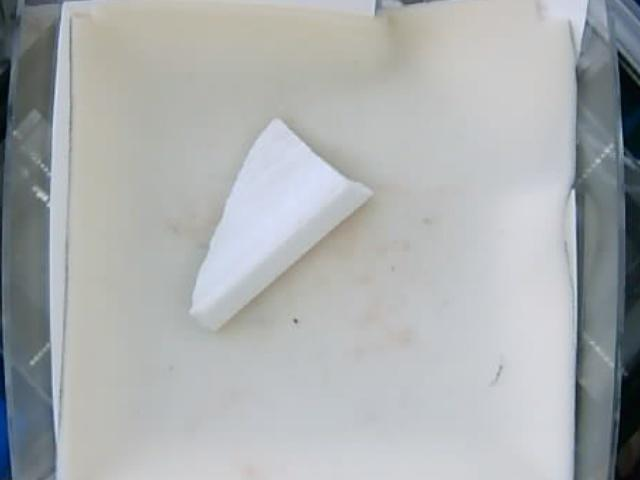China: (191, 115, 373, 336)
